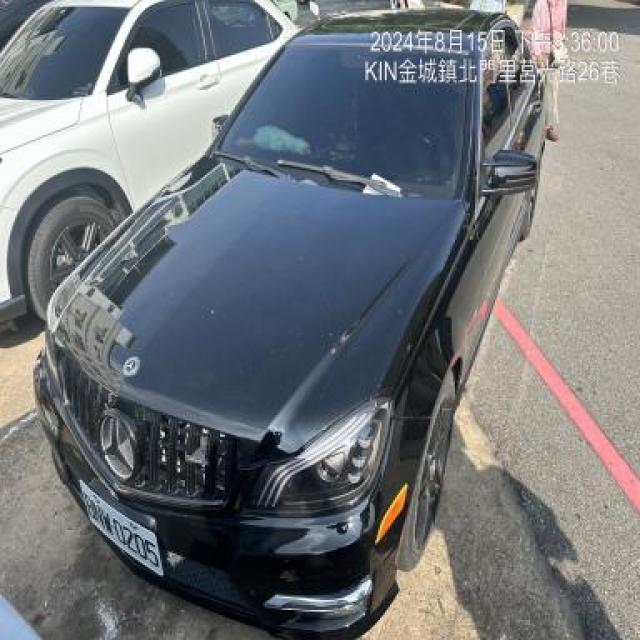illegalparking: (23, 12, 569, 638)
